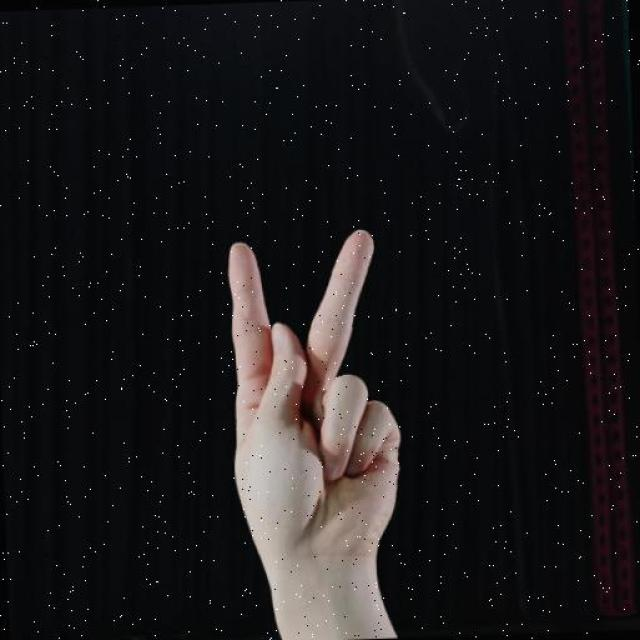K: (225, 225, 409, 570)
